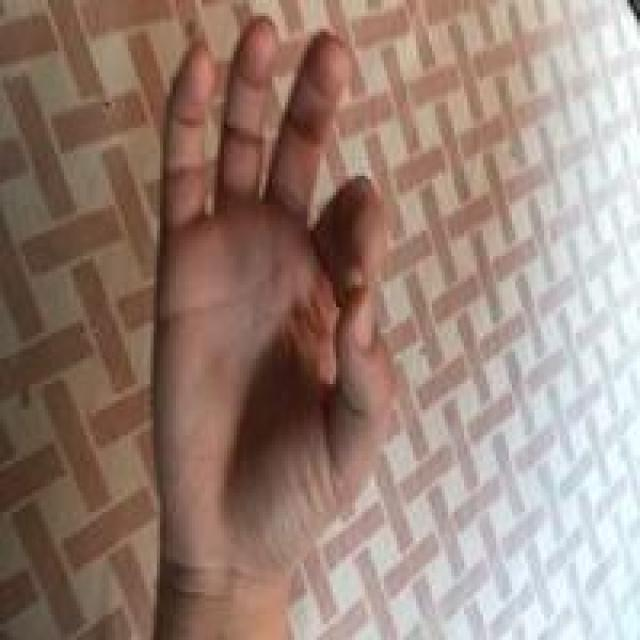F: (130, 14, 408, 600)
